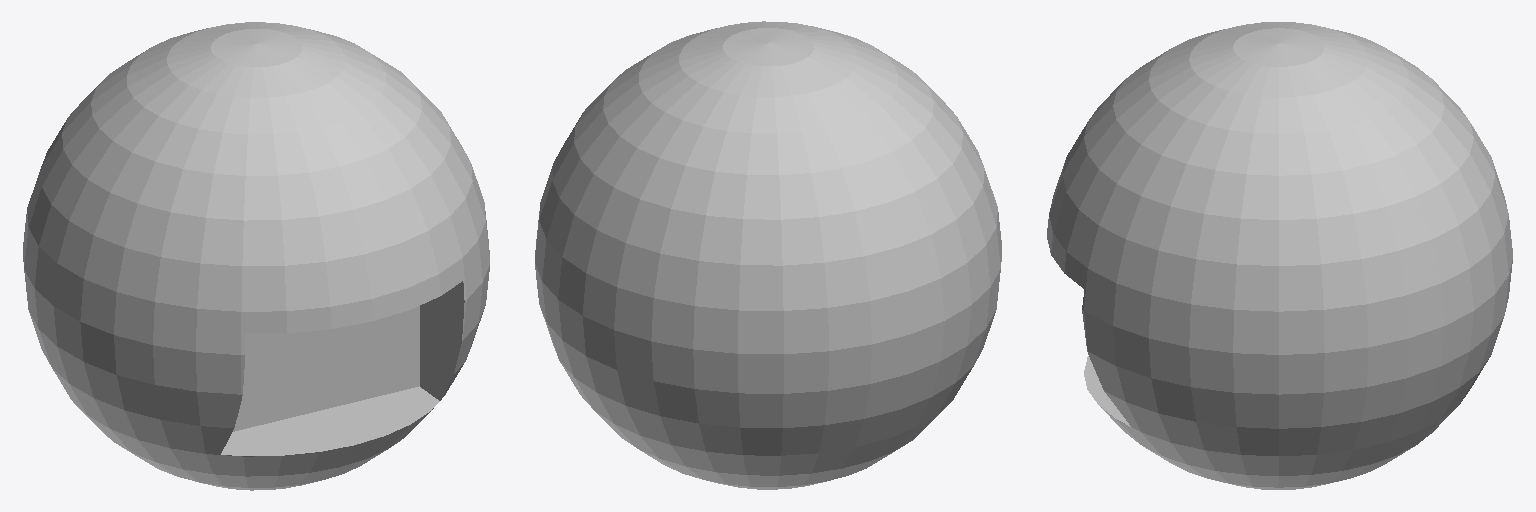
Rendered from head.obj.
3 views of the same model, side by side, from view 1: azimuth 30°, elevation 25°; view 2: azimuth 150°, elevation 25°; view 3: azimuth 270°, elevation 25° (orthographic).
Parts seen in each view (by area): view 1: Sphere.001_Sphere.004; view 2: Sphere.001_Sphere.004; view 3: Sphere.001_Sphere.004.
Boxes of the visible parts, box(x1,y1,x2,y2) form: Sphere.001_Sphere.004: box(23, 22, 489, 490); Sphere.001_Sphere.004: box(535, 21, 1001, 489); Sphere.001_Sphere.004: box(1047, 22, 1512, 489).
Size of the model in its own units: 4.44 by 4.44 by 4.42.